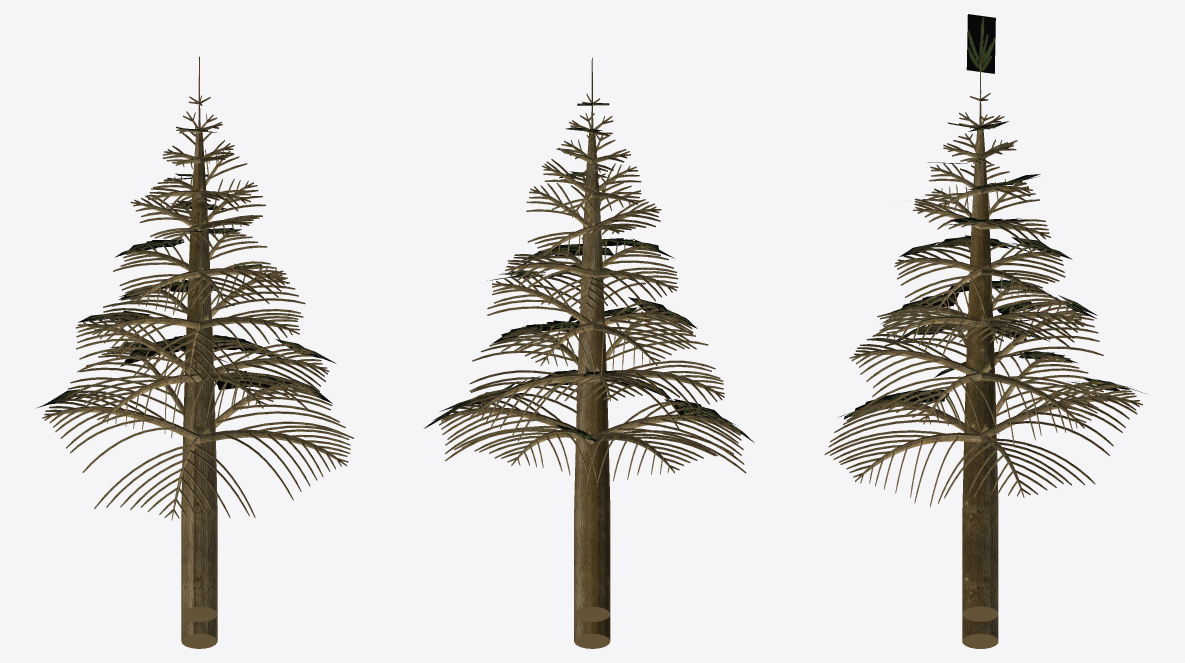
Rendered from tree_spruce.glb.
The picture shows the model from 3 angles, left to right: view 1: azimuth 30°, elevation 25°; view 2: azimuth 150°, elevation 25°; view 3: azimuth 270°, elevation 25°; orthographic projection.
Visible parts, largest first — view 1: Trunk, Trunk#2, Trunk.Stump, Trunk#3, Branch#39, Branch#77; view 2: Trunk, Trunk#2, Trunk.Stump, Trunk#3; view 3: Trunk, Trunk#2, Leaf#1926, Trunk.Stump, Branch, Trunk#3.
Boxes of the visible parts, x1,y1,x2,y2 form: Trunk: [181, 320, 217, 621]; Trunk#2: [187, 196, 211, 320]; Trunk.Stump: [181, 615, 217, 648]; Trunk#3: [192, 132, 206, 190]; Branch#39: [199, 429, 267, 443]; Branch#77: [130, 410, 199, 443]; Trunk: [574, 321, 610, 621]; Trunk#2: [579, 193, 604, 324]; Trunk.Stump: [574, 615, 610, 648]; Trunk#3: [585, 133, 598, 193]; Trunk: [962, 318, 998, 621]; Trunk#2: [968, 193, 992, 318]; Leaf#1926: [966, 14, 995, 73]; Trunk.Stump: [962, 616, 998, 648]; Branch: [980, 403, 1052, 440]; Trunk#3: [973, 130, 986, 188].
Size of the model in its own units: 5.91 by 11.55 by 6.17.
Materials: 3 (3 with a texture image).
